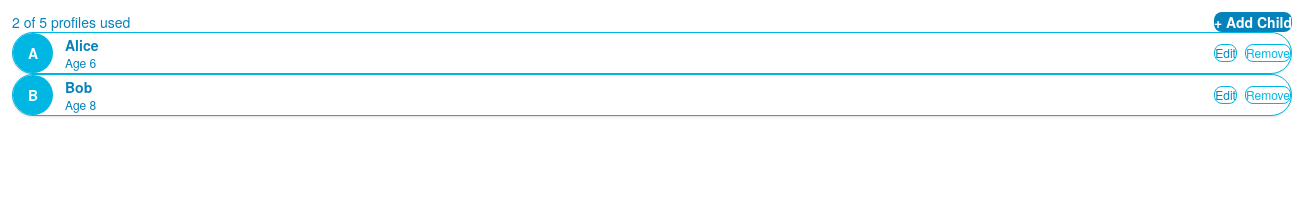
Test: ChildrenManager › shows edit form when edit button is clicked
This screenshot has width=1304, height=219.
Click the button with test id "edit-child-btn" at (1226, 53), box [1214,44,1237,62]
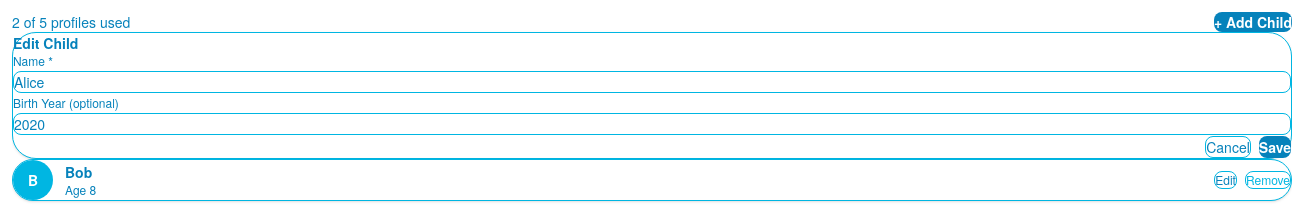
Result: the form with test id "edit-child-form" is shown at [12,32,1292,159]
Result: the field with test id "edit-child-name-input" is shown at [13,71,1291,93]
